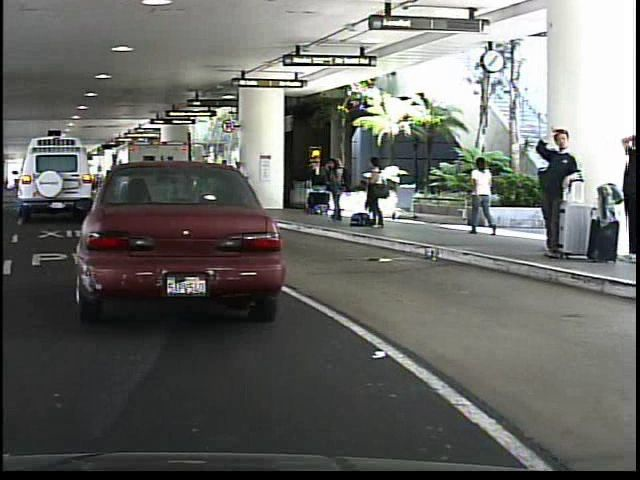person: (531, 121, 580, 260), (617, 125, 639, 269), (461, 154, 499, 235), (358, 155, 386, 229)
